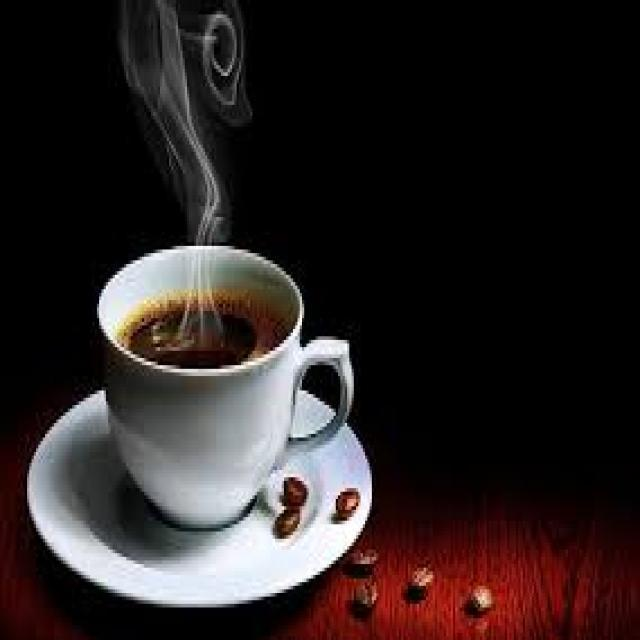taza: (90, 206, 365, 533)
